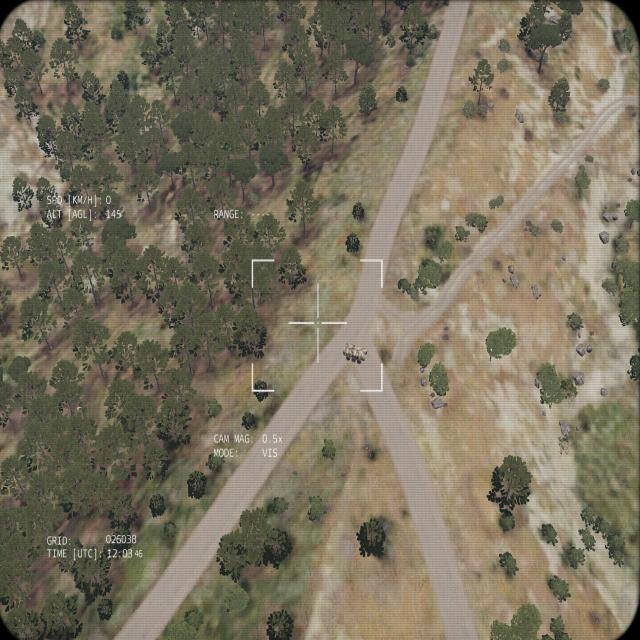apc: (342, 340, 367, 366)
